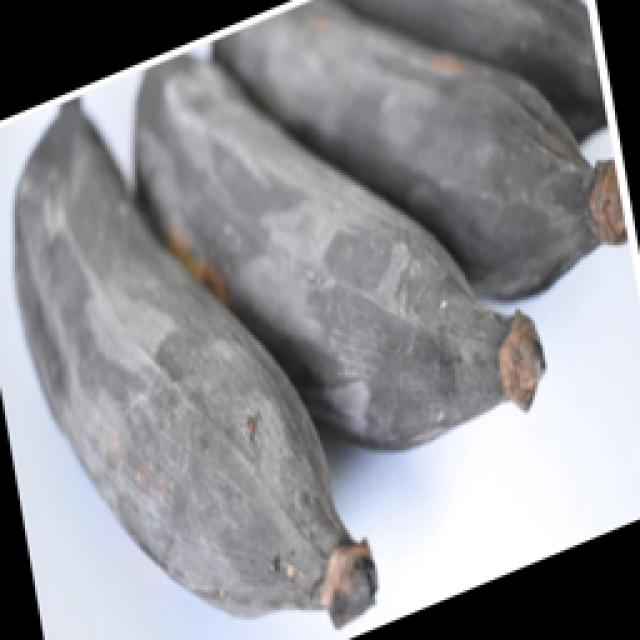Rotten_Banana: (27, 31, 528, 636)
